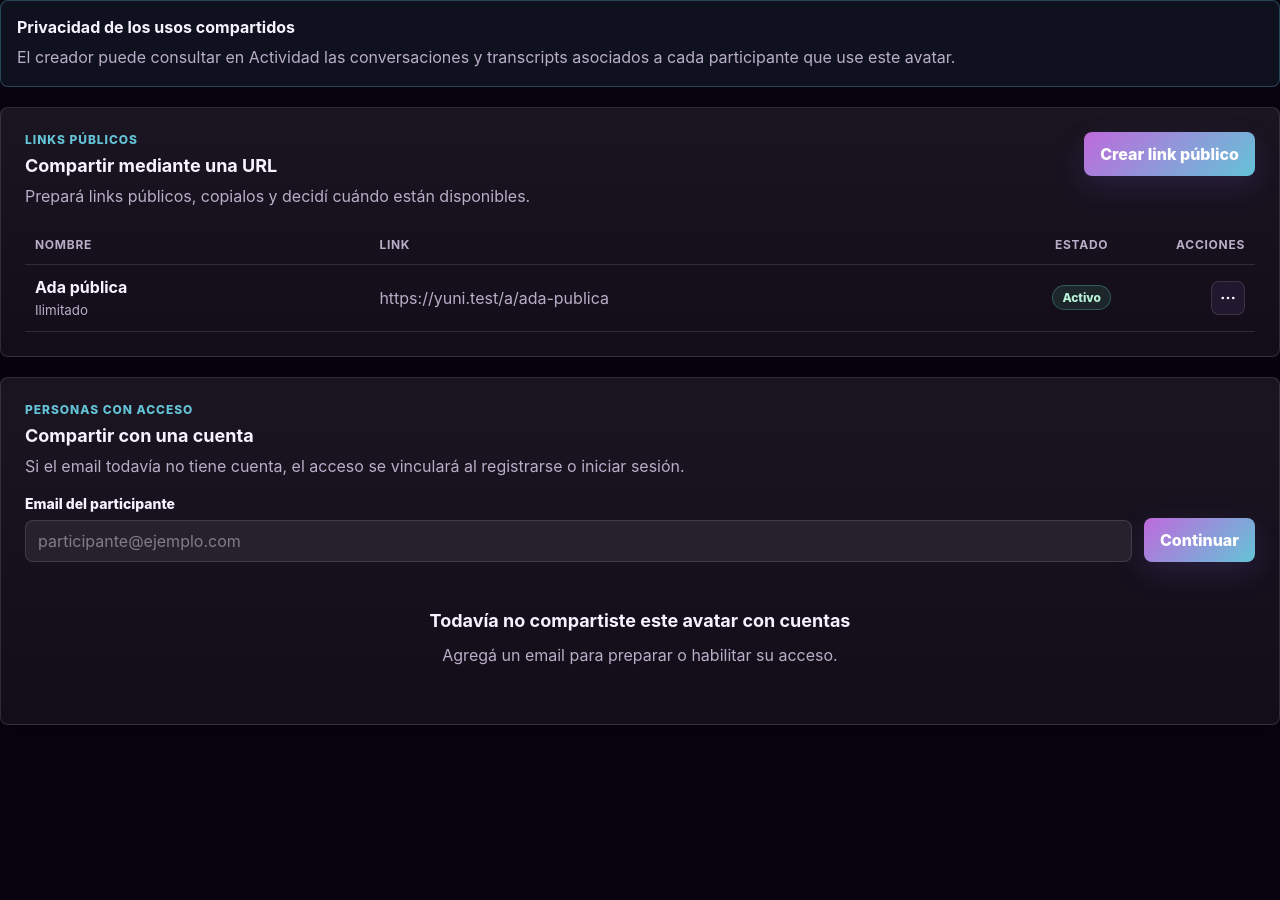
Test case: sharing and limits toast feedback › announces an update to interaction limits
Click the button named "Acciones para Ada pública": (1228, 298) [1211, 281, 1245, 315]
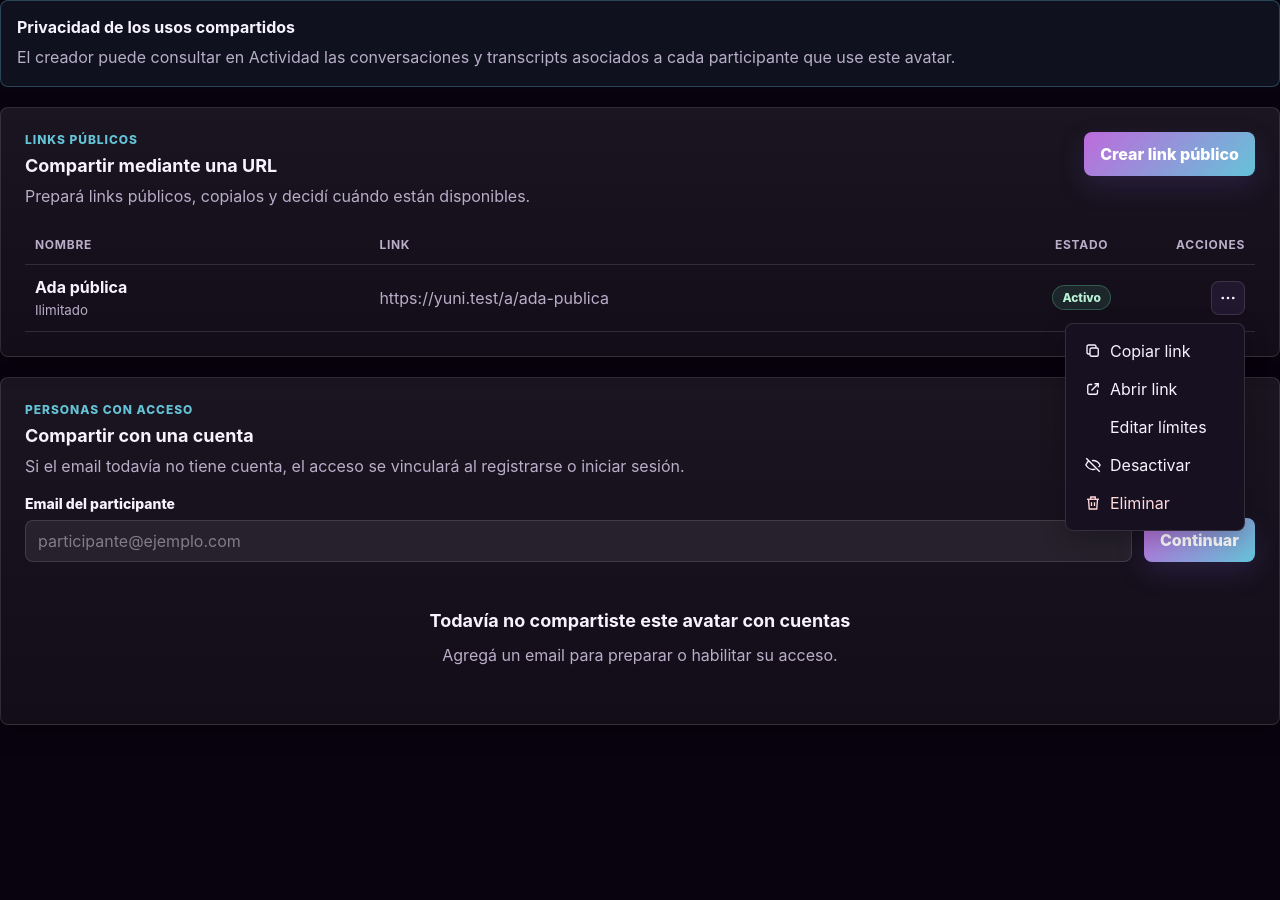
Click the menu item "Editar límites": (1155, 427) [1074, 408, 1236, 446]
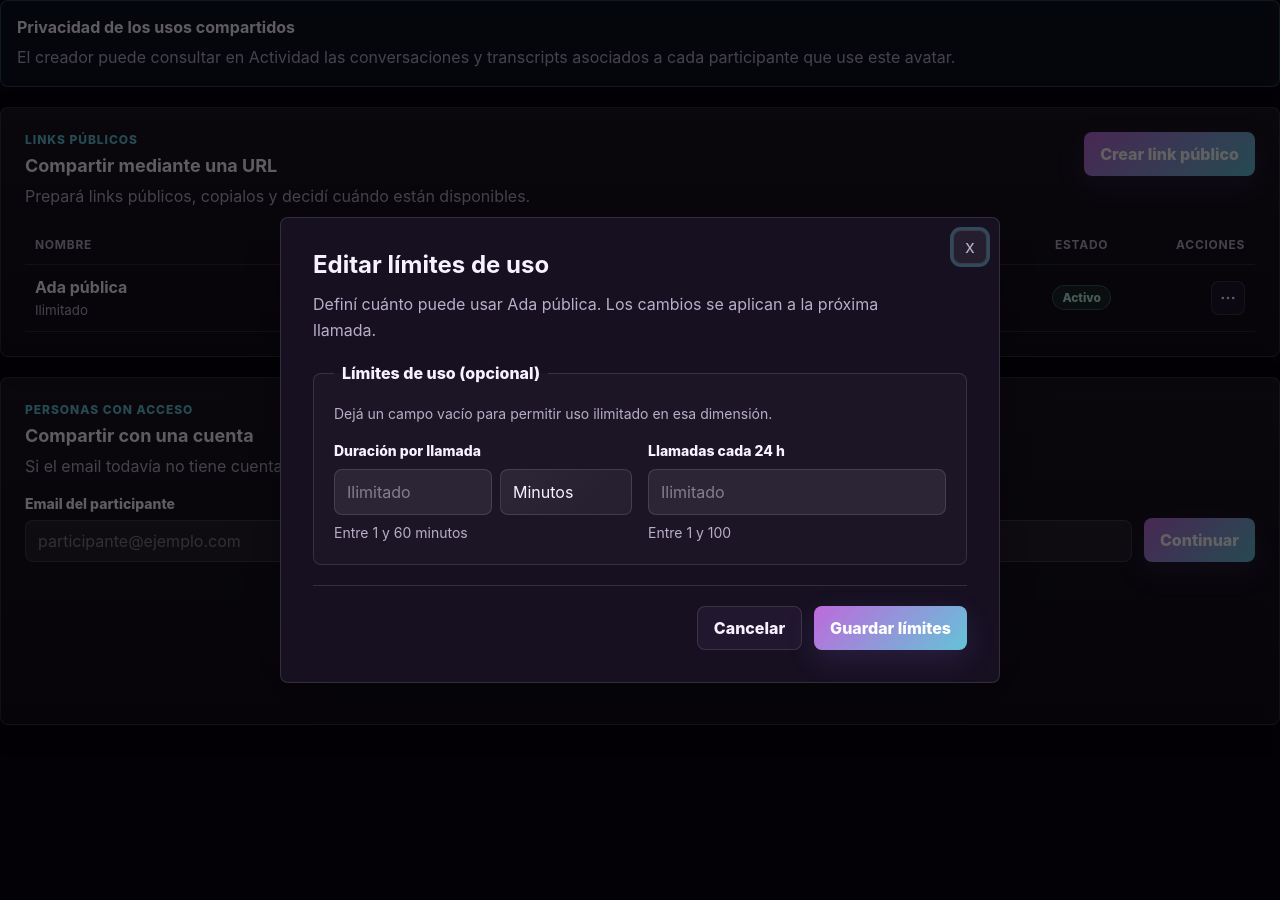
Click the button "Guardar límites": (891, 628) [814, 606, 967, 650]
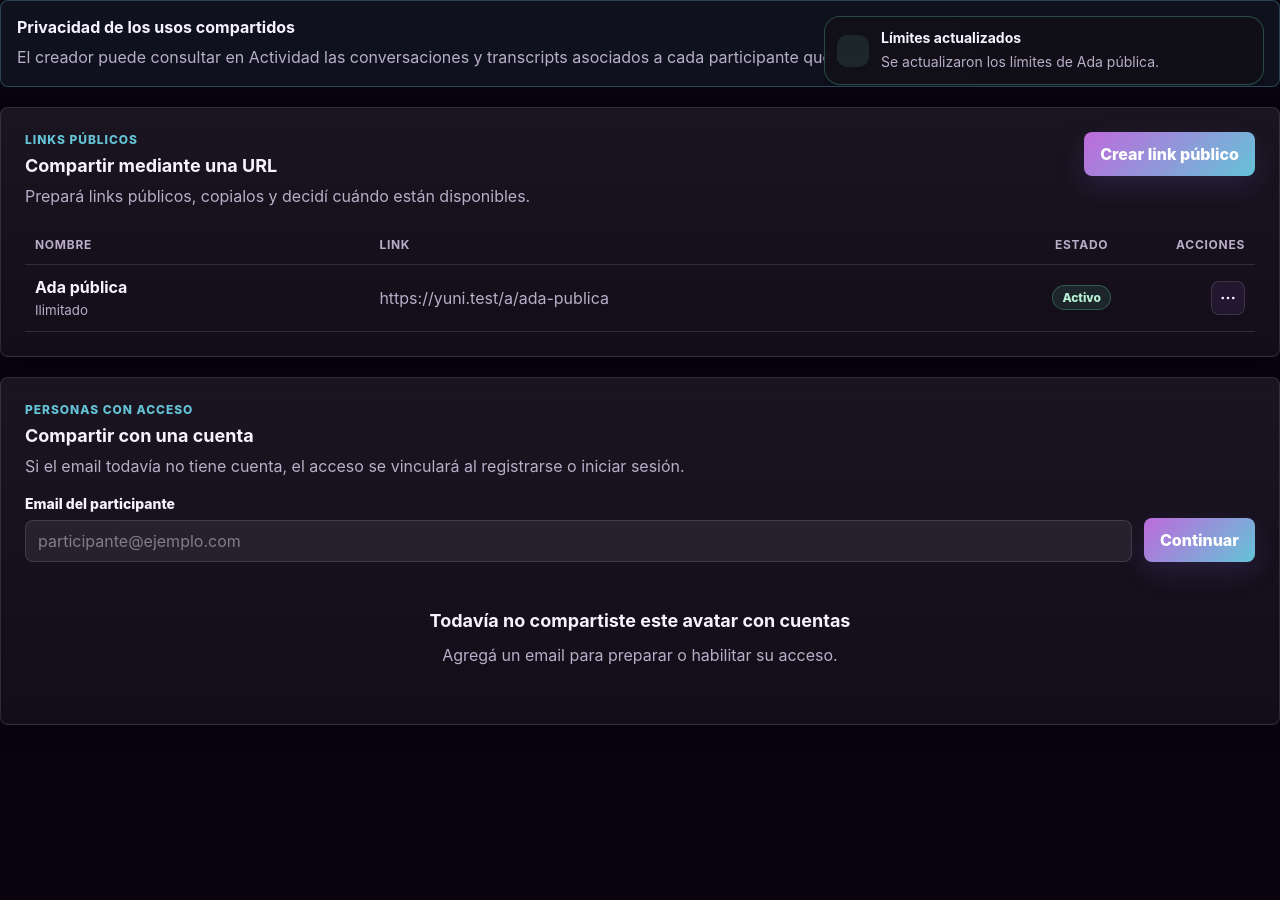
Now the message shows "Límites actualizados", box [881, 29, 1021, 46]
